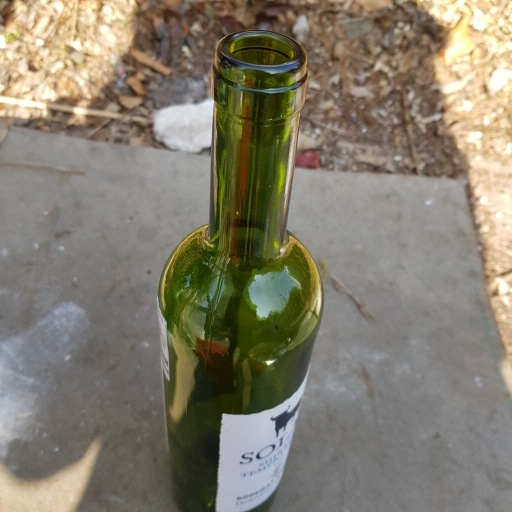Glass_2: (161, 29, 328, 512)
